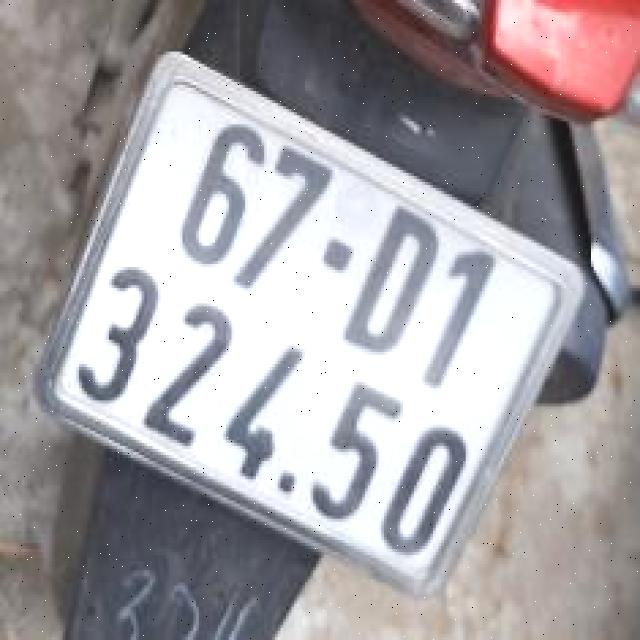0: (372, 414, 489, 580)
1: (402, 222, 519, 421)
2: (126, 278, 260, 460)
3: (46, 233, 192, 434)
4: (211, 314, 331, 507)
5: (301, 373, 401, 541)
6: (149, 98, 276, 281)
7: (220, 142, 346, 310)
D: (326, 180, 464, 381)
